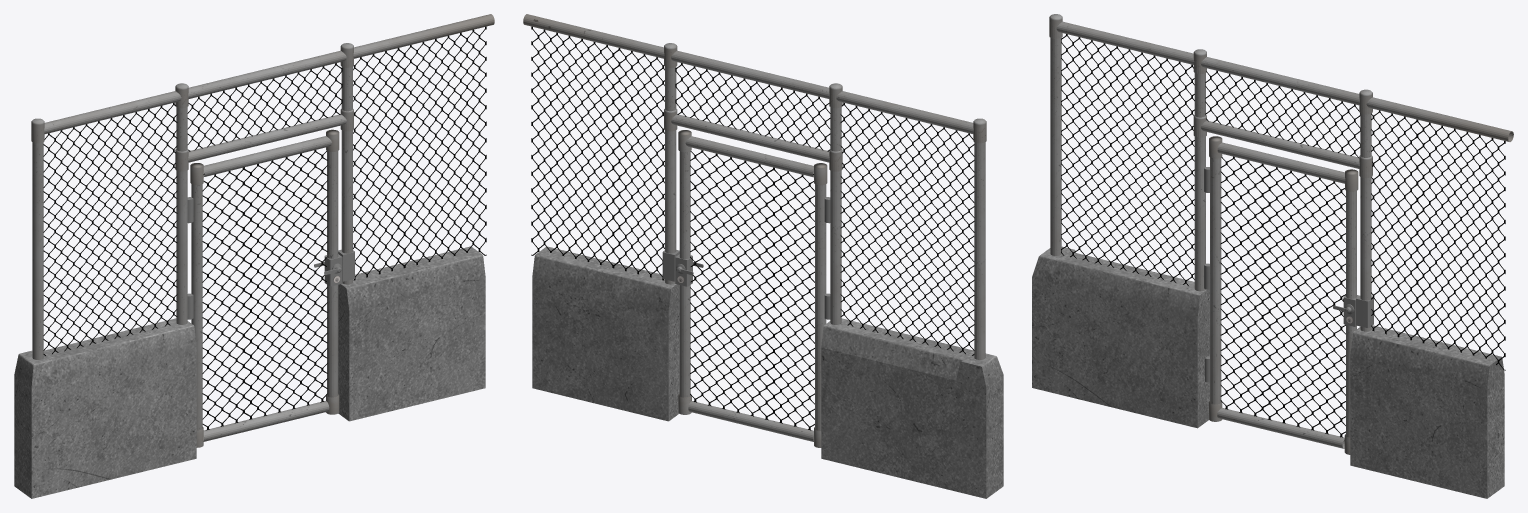
The model's file is chain_wall_door_corner.fbx.
3 renders of one model, left to right at view 1: azimuth 30°, elevation 25°; view 2: azimuth 150°, elevation 25°; view 3: azimuth 330°, elevation 25°, orthographic.
Visible parts, largest first — view 1: chain_wall_door_corner; view 2: chain_wall_door_corner; view 3: chain_wall_door_corner.
Part boxes in pixels (<box>): chain_wall_door_corner: <box>14,14,494,498</box>; chain_wall_door_corner: <box>523,14,1003,498</box>; chain_wall_door_corner: <box>1032,14,1513,498</box>.
Size of the model in its own units: 3.1 by 2.33 by 0.2.
2 materials, 2 textured.
